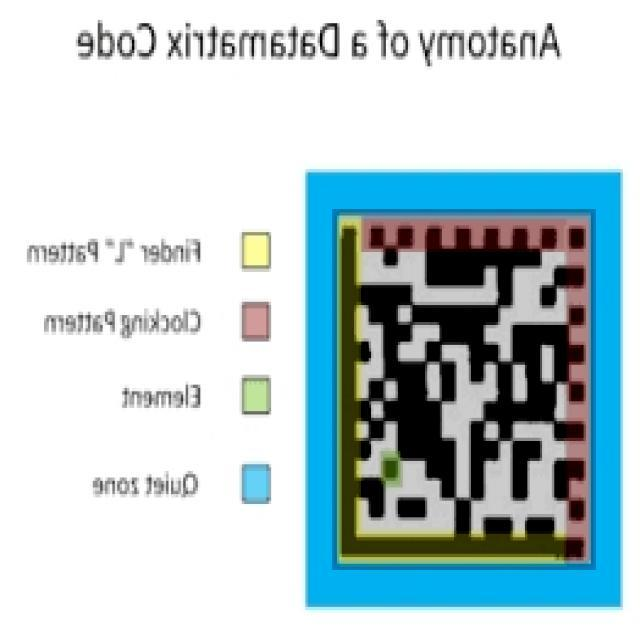Data-Matrix: (332, 209, 596, 570)
